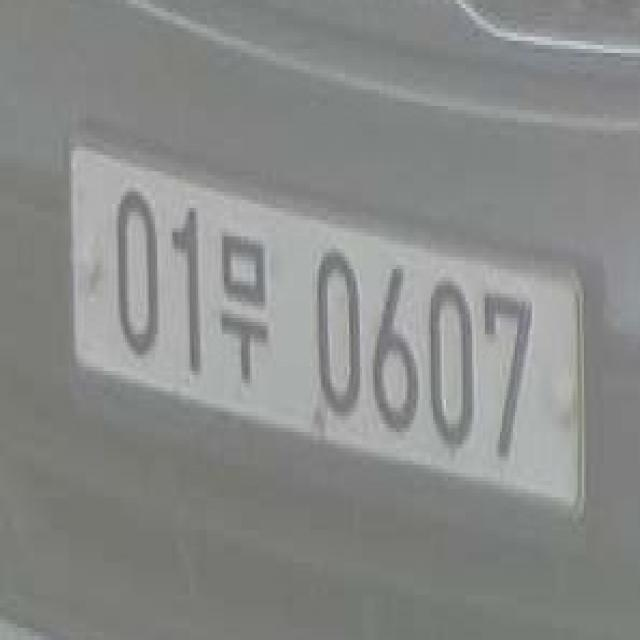0: (104, 171, 164, 373), (312, 237, 365, 435), (430, 275, 478, 461)
1: (168, 194, 208, 386)
6: (368, 251, 424, 444)
7: (482, 282, 542, 478)
license_plate: (56, 109, 601, 555)
mu: (216, 212, 273, 413)
